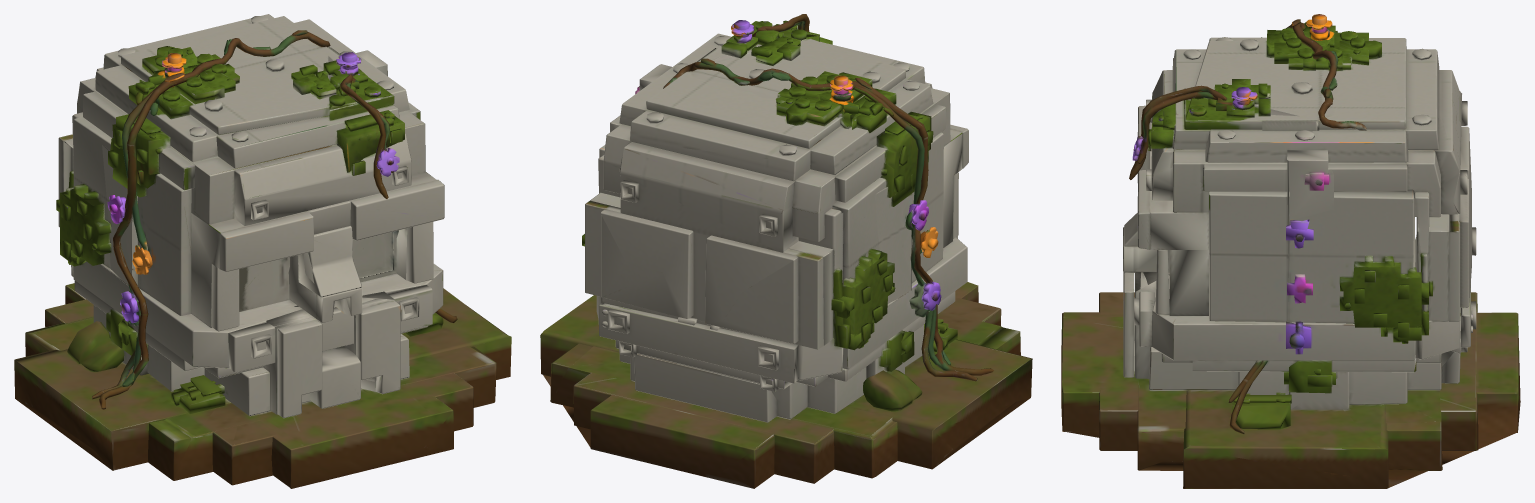
File: Prop_SkullRock.glb
3 views of the same model, side by side, from view 1: azimuth 30°, elevation 25°; view 2: azimuth 150°, elevation 25°; view 3: azimuth 270°, elevation 25° (orthographic).
Size of the model in its own units: 0.9575 by 0.7773 by 0.9487.
1 material, 1 textured.
